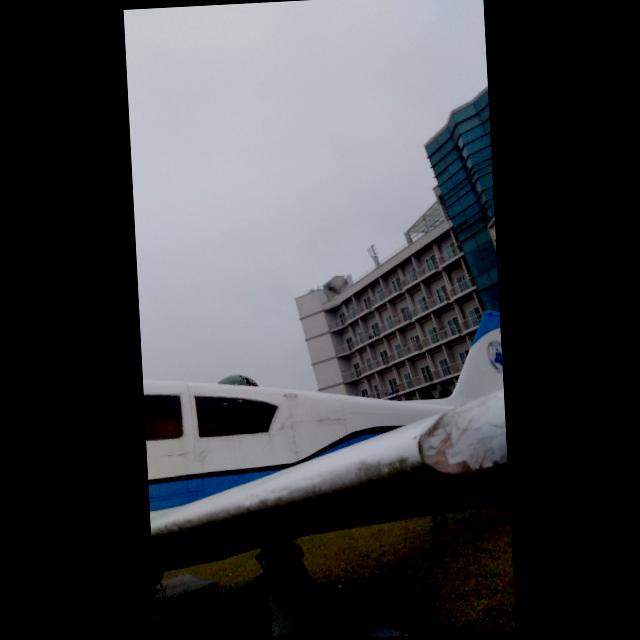dent: (414, 396, 508, 484)
